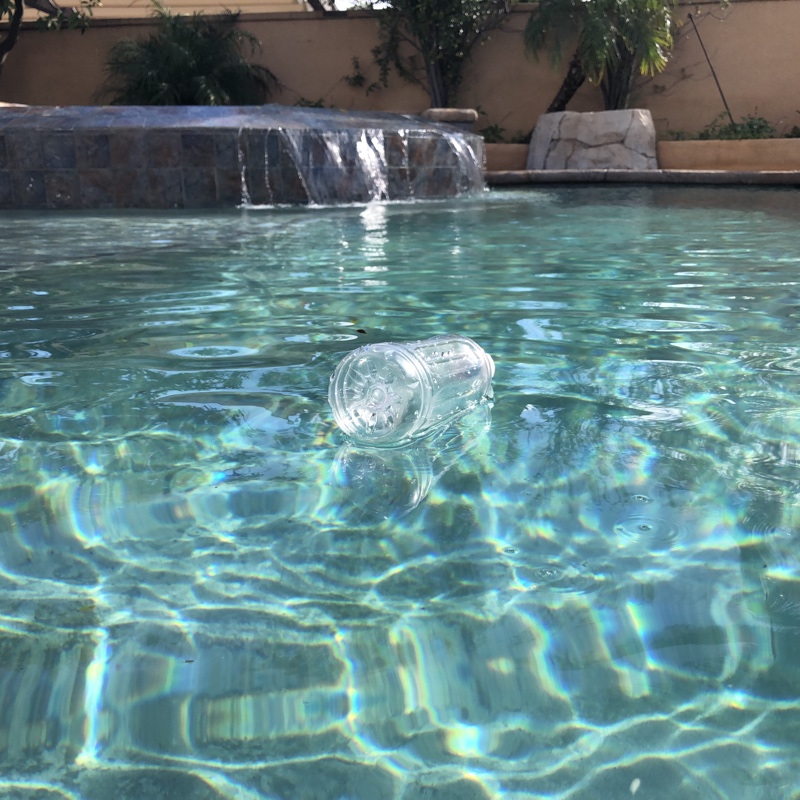Plastic Bottle: (325, 330, 499, 451)
